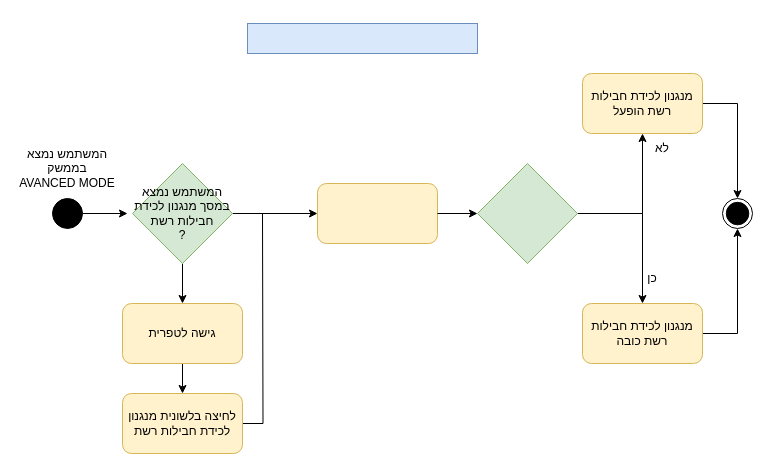
Some shapes in this 770 by 471 pixel diagram are drawn without their labels. The shapes that lost their labels are listed below. From the top down, each one's centre as x and y in pixels, then its label:
At [362,38]: "הפעלת מנגנון לכידת חבילות רשת".
At [377,213]: "לחיצה על כפתור הפעלת מנגנון לכידת חבילות רשת".
At [527,213]: "מנגנון לכידת חבילות רשת פעיל?".
